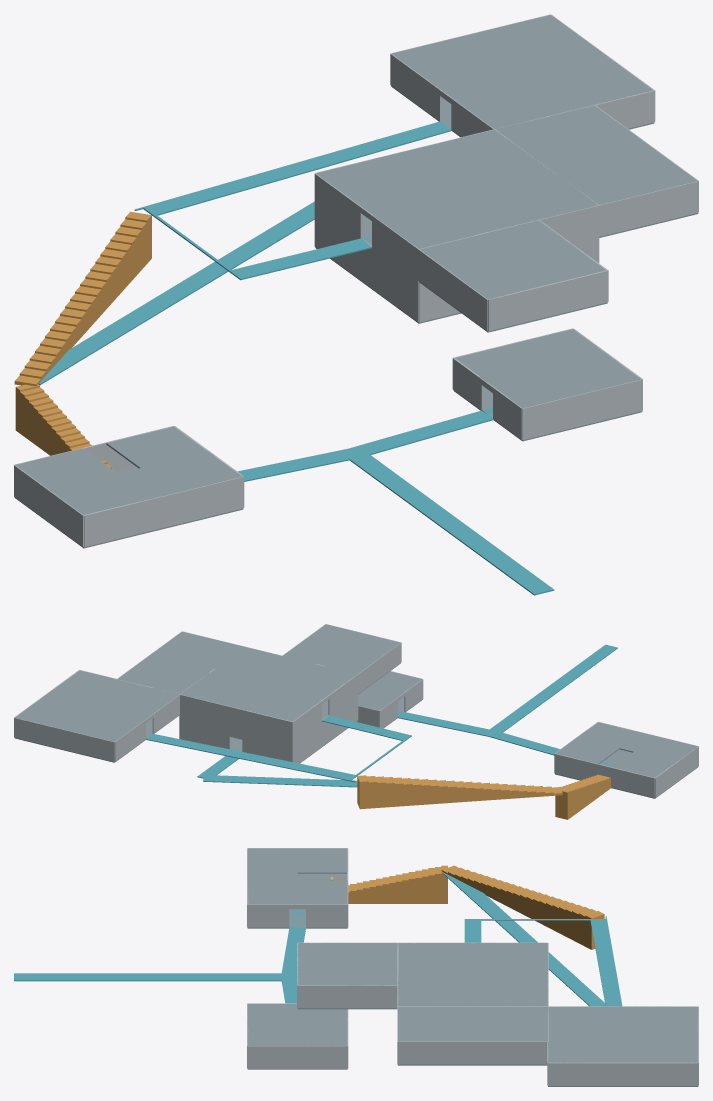
File: furnished.glb
The picture shows the model from 3 angles, top to bottom: view 1: azimuth 30°, elevation 25°; view 2: azimuth 150°, elevation 25°; view 3: azimuth 270°, elevation 25°; orthographic projection. The views are drawn at different scales.
Parts seen in each view (by area): view 1: Ceiling cap gallery, Ceiling cap chamber, Ceiling cap fork, Ceiling cap wash, Ceiling cap alcove, Wall shelter S, L15 support 0, L12 support 0, Wall alcove S, Wall lower-cave W, Wall wash S, Wall fork S (+22 smaller); view 2: Ceiling cap gallery, Ceiling cap chamber, Ceiling cap fork, Ceiling cap alcove, Wall gallery N, Wall chamber N, Wall shelter N, L12 support 0, Wall lower-cave W, Ceiling cap wash, Wall lower-cave N.001, L15 support 0 (+27 smaller); view 3: Ceiling cap gallery, Ceiling cap chamber, Ceiling cap fork, Ceiling cap alcove, Ceiling cap wash, Wall chamber E, Wall fork E, Wall alcove E, Wall wash E, L15 support 0, L12 support 0, Ceiling cap shelter (+13 smaller).
Boxes of the visible parts, x1,y1,x2,y2 form: Ceiling cap gallery: [316, 129, 597, 248]; Ceiling cap chamber: [392, 14, 653, 129]; Ceiling cap fork: [496, 105, 697, 204]; Ceiling cap wash: [455, 329, 641, 408]; Ceiling cap alcove: [419, 220, 605, 299]; Wall shelter S: [83, 476, 243, 546]; L15 support 0: [39, 201, 314, 385]; L12 support 0: [134, 121, 452, 216]; Wall alcove S: [488, 270, 608, 331]; Wall lower-cave W: [314, 205, 418, 322]; Wall wash S: [522, 379, 642, 439]; Wall fork S: [599, 181, 698, 236]; Ceiling cap gallery: [180, 647, 357, 721]; Ceiling cap chamber: [15, 670, 179, 741]; Ceiling cap fork: [117, 631, 244, 694]; Ceiling cap alcove: [283, 624, 400, 674]; Wall gallery N: [180, 694, 292, 741]; Wall chamber N: [14, 717, 114, 761]; Wall shelter N: [554, 753, 654, 797]; L12 support 0: [146, 733, 356, 782]; Wall lower-cave W: [292, 694, 358, 763]; Ceiling cap wash: [358, 671, 422, 710]; Wall lower-cave N.001: [179, 714, 230, 749]; L15 support 0: [203, 775, 357, 787]; Ceiling cap gallery: [398, 943, 547, 1006]; Ceiling cap chamber: [548, 1006, 698, 1062]; Ceiling cap fork: [398, 1007, 547, 1041]; Ceiling cap alcove: [297, 943, 397, 985]; Ceiling cap wash: [247, 1004, 347, 1045]; Wall chamber E: [548, 1062, 698, 1085]; Wall fork E: [398, 1041, 547, 1064]; Wall alcove E: [297, 985, 397, 1008]; Wall wash E: [247, 1045, 347, 1068]; L15 support 0: [443, 873, 605, 1006]; L12 support 0: [590, 916, 622, 1006]; Ceiling cap shelter: [297, 848, 347, 873].
Size of the model in its own units: 78.16 by 11.16 by 82.08.
16 materials, 12 textured.
